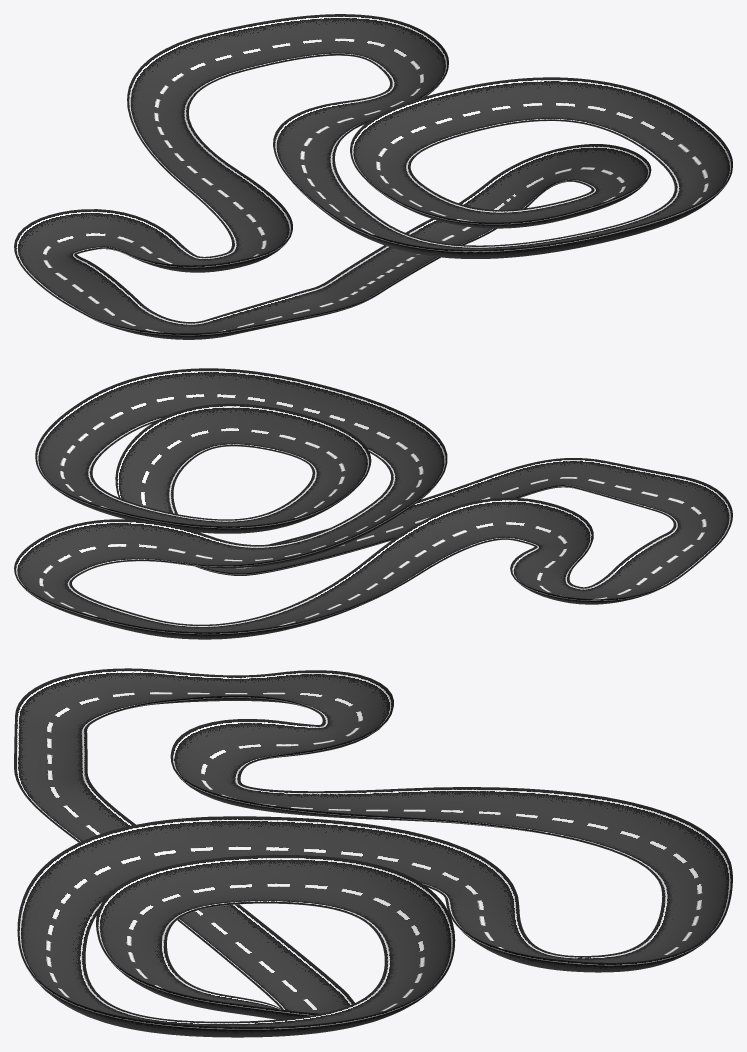
The model's file is RaceTrack.glb.
The picture shows the model from 3 angles, top to bottom: view 1: azimuth 30°, elevation 25°; view 2: azimuth 150°, elevation 25°; view 3: azimuth 270°, elevation 25°; orthographic projection. The views are drawn at different scales.
Visible parts, largest first — view 1: RoadProfile; view 2: RoadProfile; view 3: RoadProfile.
Part boxes in pixels (x1,y1,x2,y2): RoadProfile: [14, 14, 732, 339]; RoadProfile: [14, 368, 732, 639]; RoadProfile: [14, 668, 732, 1037].
Bounding box in the file's own units: 283 × 39.06 × 233.
Materials: 1 (1 with a texture image).
